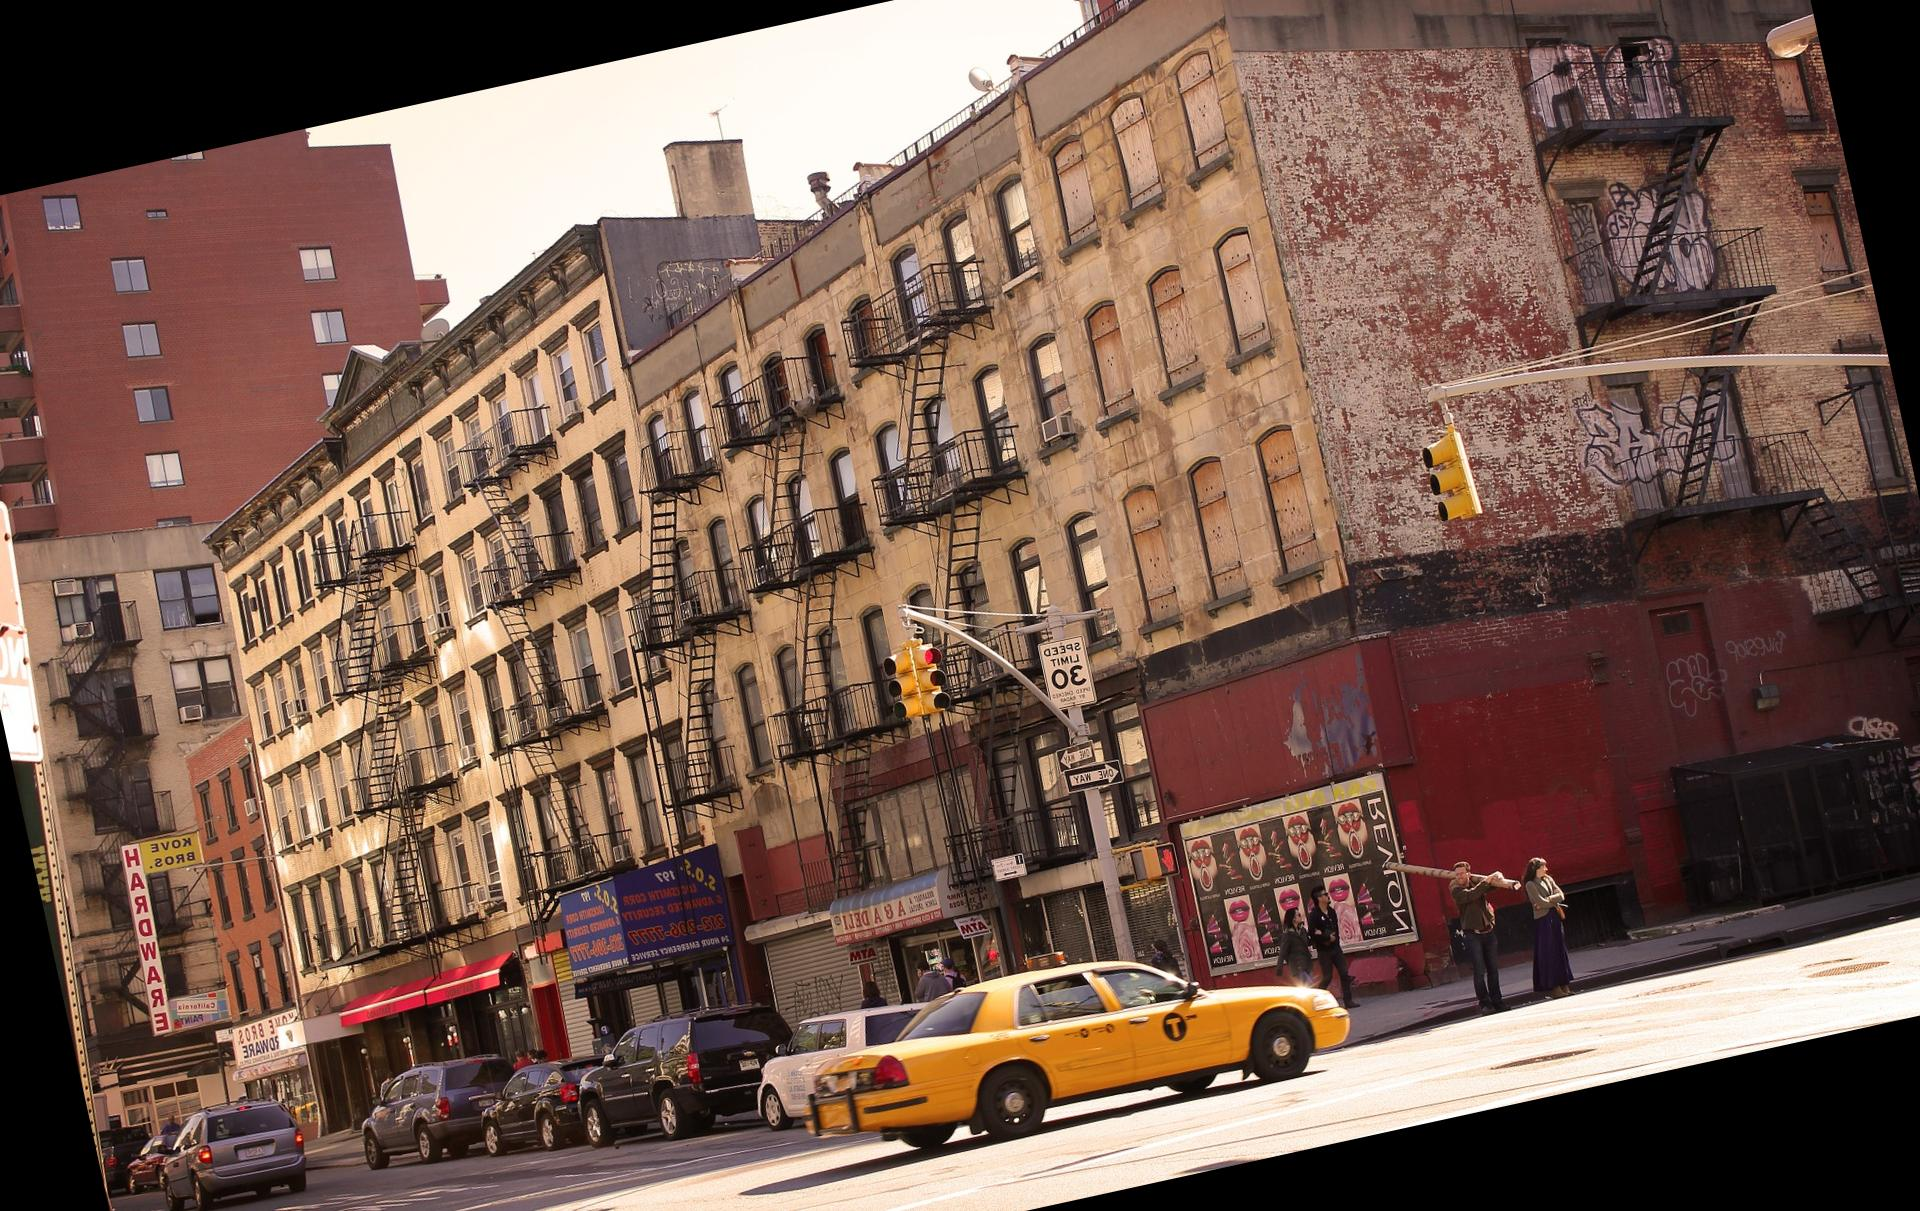taxi: (791, 954, 1367, 1159)
